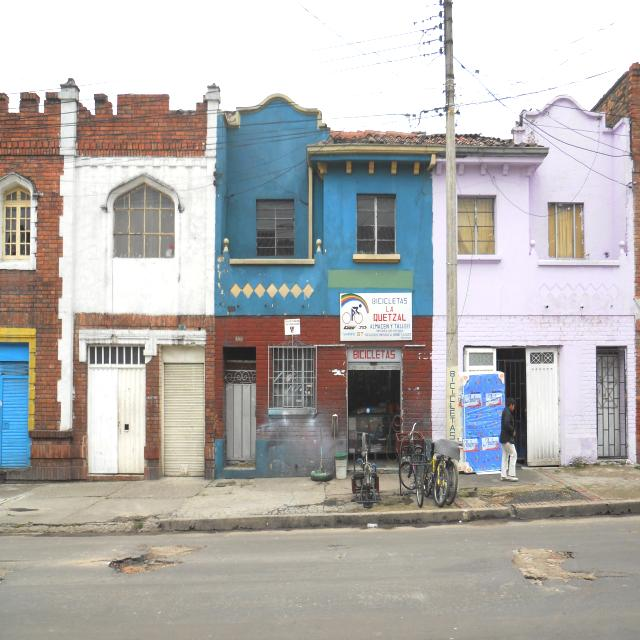fachada: (0, 80, 445, 479), (0, 80, 219, 479), (216, 95, 442, 477), (456, 96, 635, 465), (0, 89, 83, 478), (592, 63, 639, 343)
poste: (444, 0, 458, 439)
